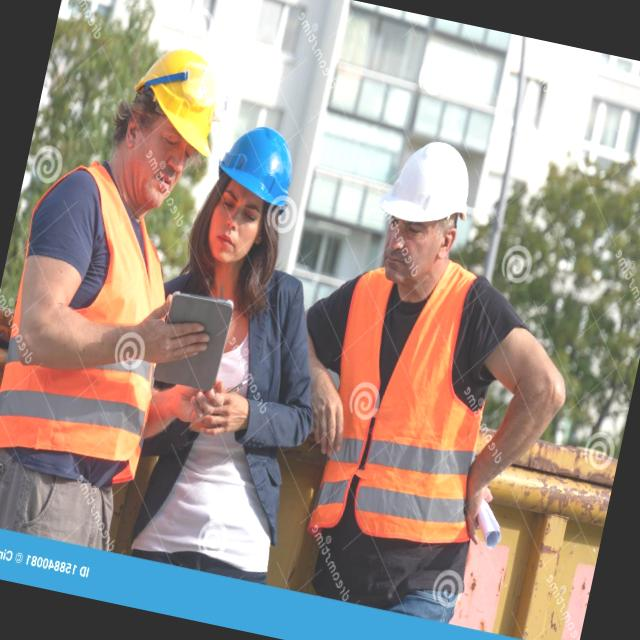helmet: (119, 39, 232, 160), (379, 128, 483, 242), (208, 114, 309, 218)
no-goggles: (378, 200, 458, 256), (121, 120, 202, 170), (204, 180, 280, 232)
no-vest: (140, 249, 322, 497)
vest: (302, 254, 518, 556), (0, 152, 180, 474)
